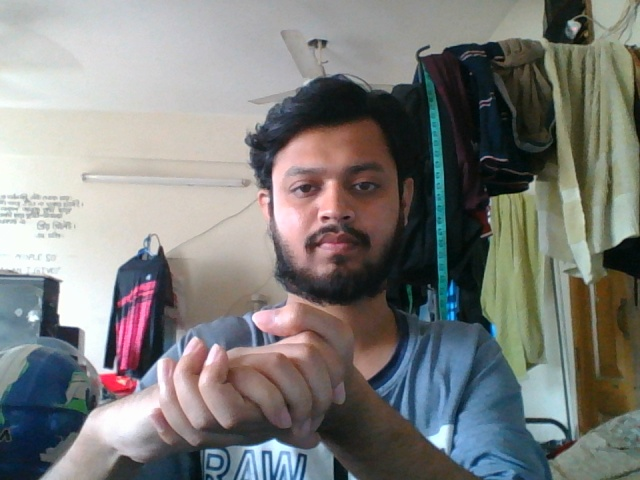bondhu: (43, 299, 461, 480)
